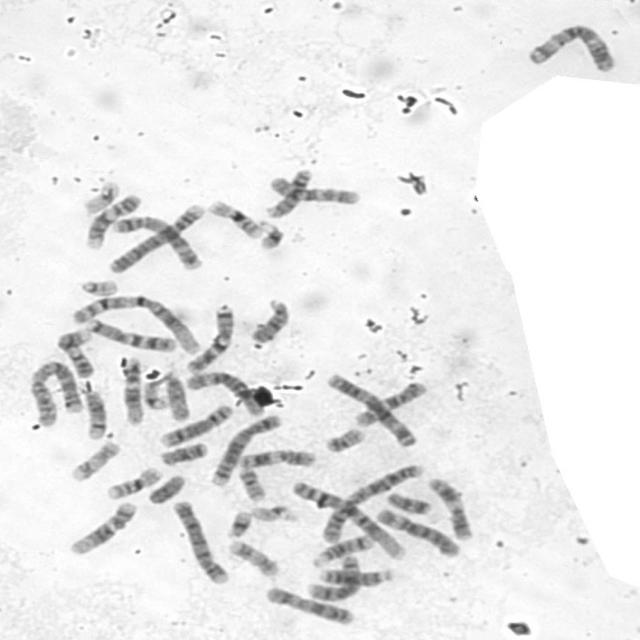A1: (287, 478, 408, 561), (67, 290, 204, 355)
A2: (316, 460, 427, 544), (25, 356, 86, 429)
A3: (323, 368, 420, 448), (523, 20, 620, 74)
B4: (104, 203, 206, 274), (168, 496, 232, 586)
B5: (206, 409, 285, 488), (109, 210, 204, 272)
C10: (350, 377, 430, 428), (265, 172, 362, 206)
C11: (424, 473, 475, 542), (235, 446, 319, 470)
C12: (64, 497, 139, 556), (119, 353, 148, 427)
C6: (372, 504, 461, 558), (183, 366, 266, 418)
C7: (182, 300, 237, 374), (79, 313, 179, 353)
C8: (156, 400, 235, 449), (303, 551, 362, 603)
C9: (80, 189, 144, 250), (52, 324, 98, 379)
D13: (260, 164, 314, 220), (315, 564, 394, 588)
D14: (307, 530, 376, 568), (80, 385, 110, 440)
D15: (246, 295, 293, 344), (160, 367, 193, 423)
E16: (204, 195, 266, 240), (103, 463, 165, 500)
E17: (65, 436, 122, 483), (223, 535, 282, 579)
E18: (157, 438, 210, 466), (382, 488, 434, 516)
F19: (78, 177, 122, 214), (139, 377, 170, 410)
F20: (321, 424, 367, 454), (234, 463, 269, 502)
G21: (222, 506, 255, 540), (254, 216, 286, 251)
G22: (247, 501, 299, 523), (76, 275, 121, 297)
X: (260, 583, 357, 627)
Y: (144, 470, 188, 505)
